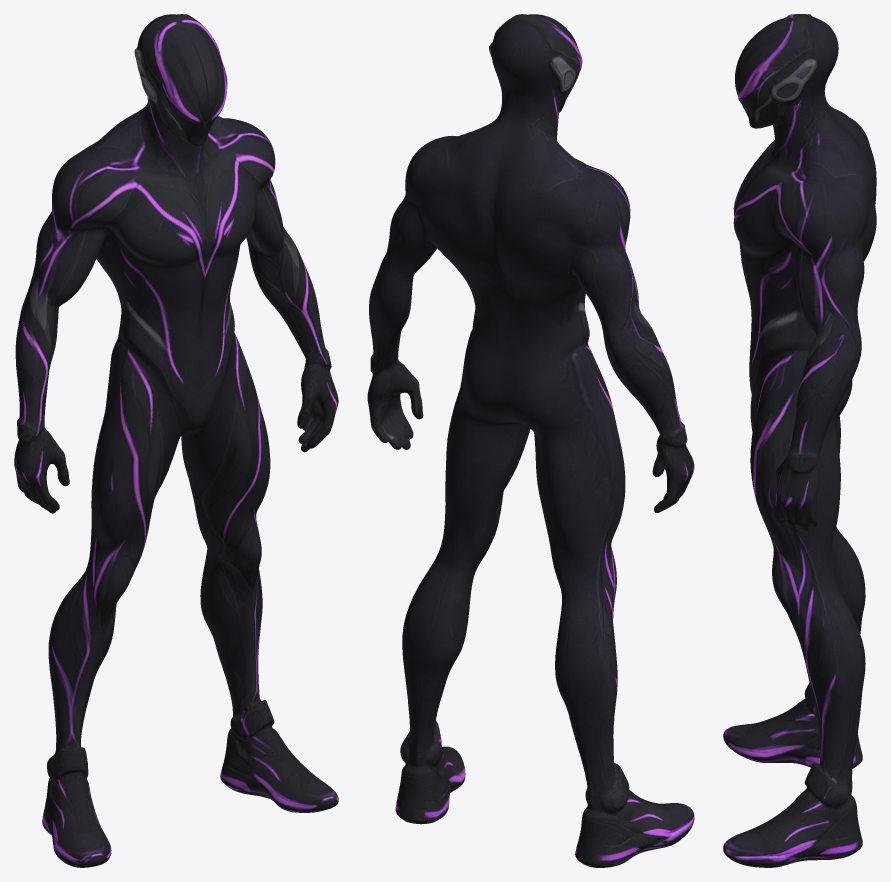
The model's file is 사람모습.glb.
3 views of the same model, side by side, from view 1: azimuth 30°, elevation 25°; view 2: azimuth 150°, elevation 25°; view 3: azimuth 270°, elevation 25° (orthographic). The views are drawn at different scales.
Bounding box in the file's own units: 0.7825 × 1.9 × 0.3341.
Materials: 1 (1 with a texture image).
